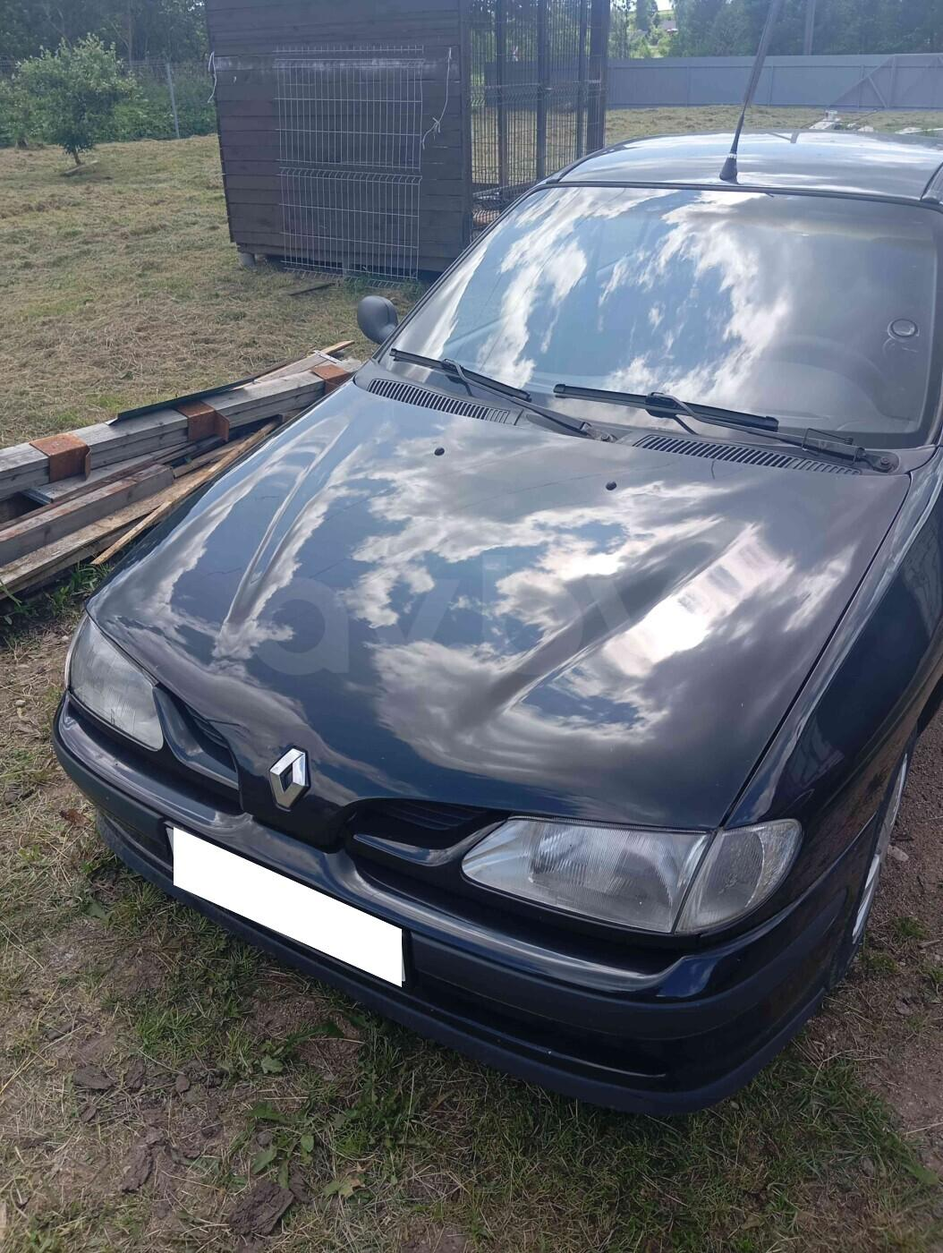Megane_1995-1999: (54, 111, 943, 1076)
